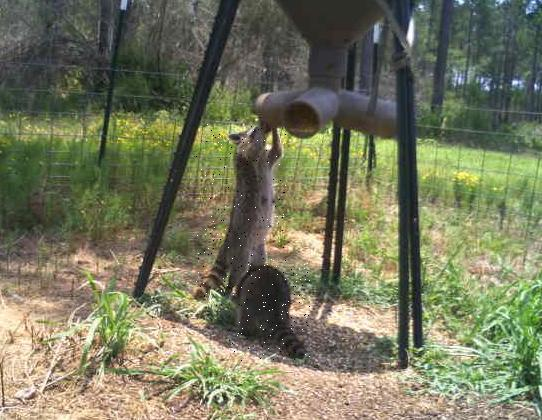Raccoon: (195, 121, 286, 307), (229, 264, 310, 362)
